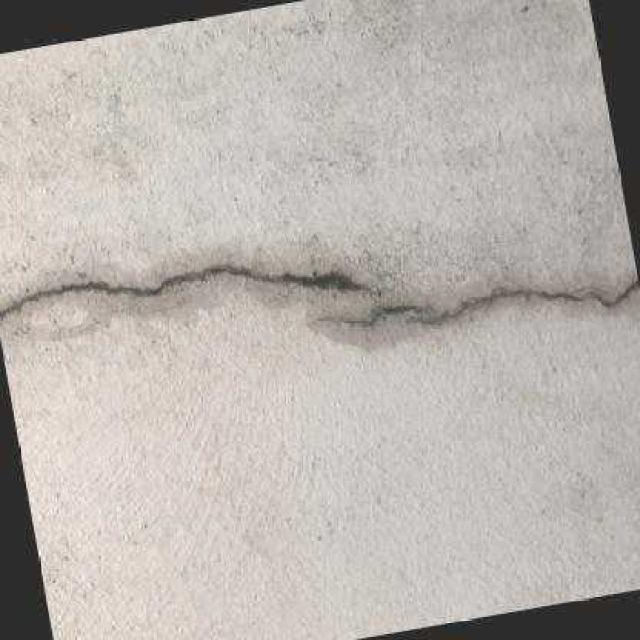D00: (0, 263, 366, 316), (406, 278, 640, 322), (312, 303, 429, 324)
